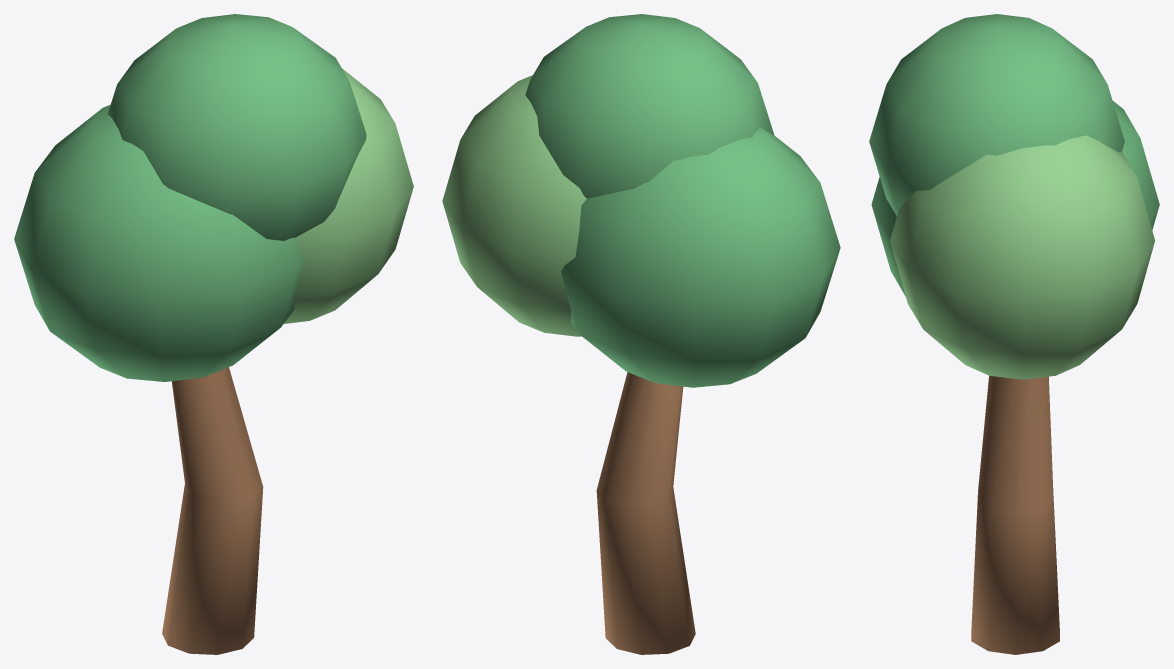
File: Storybook_Tree_A.fbx
3 renders of one model, left to right at view 1: azimuth 30°, elevation 25°; view 2: azimuth 150°, elevation 25°; view 3: azimuth 270°, elevation 25°, orthographic. The views are drawn at different scales.
Parts seen in each view (by area): view 1: Foliage.004, Foliage.006, Trunk.002, Foliage.005; view 2: Foliage.004, Foliage.006, Foliage.005, Trunk.002; view 3: Foliage.005, Foliage.006, Trunk.002, Foliage.004.
Part boxes in pixels (x1=…): Foliage.004: x1=14, y1=104, x2=304, y2=381; Foliage.006: x1=108, y1=14, x2=366, y2=240; Trunk.002: x1=162, y1=367, x2=263, y2=654; Foliage.005: x1=284, y1=68, x2=413, y2=323; Foliage.004: x1=561, y1=128, x2=840, y2=387; Foliage.006: x1=525, y1=14, x2=774, y2=198; Foliage.005: x1=442, y1=75, x2=586, y2=336; Trunk.002: x1=596, y1=372, x2=695, y2=654; Foliage.005: x1=890, y1=135, x2=1154, y2=379; Foliage.006: x1=869, y1=14, x2=1124, y2=215; Trunk.002: x1=971, y1=375, x2=1059, y2=654; Foliage.004: x1=871, y1=101, x2=1159, y2=296.
Size of the model in its own units: 1.84 by 2.92 by 1.25.
